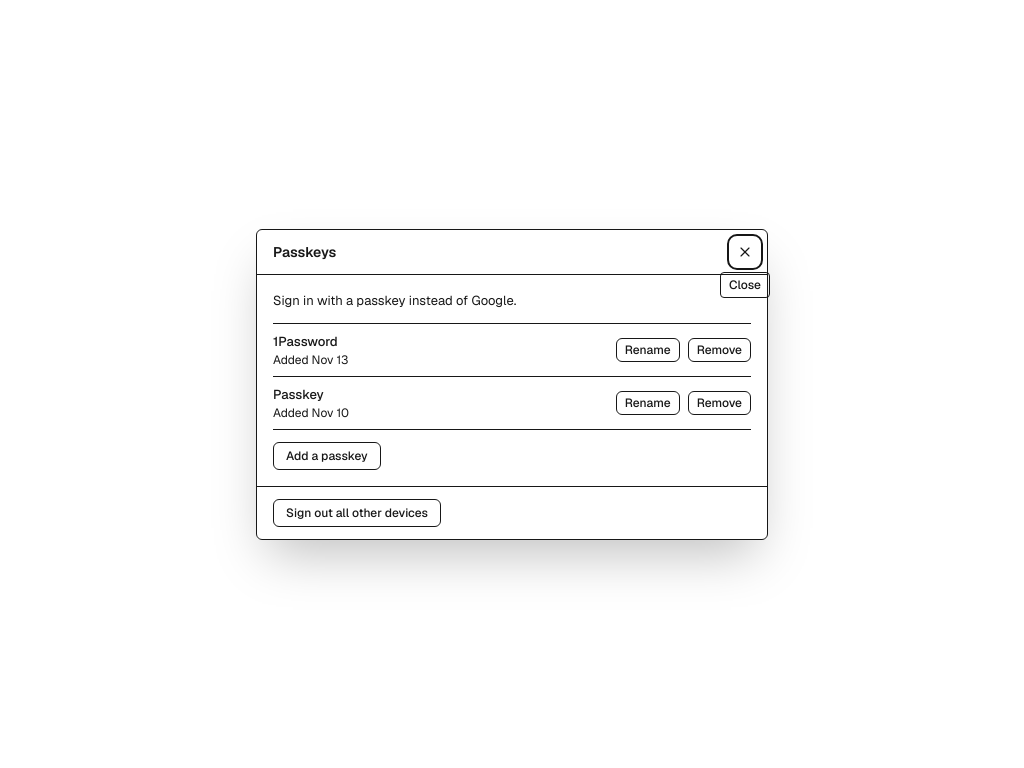
Test: adding a passkey › pressing Add twice sends once, and the other buttons wait while it runs
Later steps or results of the test are not shown.
Step 1. Click the button "Add a passkey" → [327, 456], box [273, 442, 381, 470]
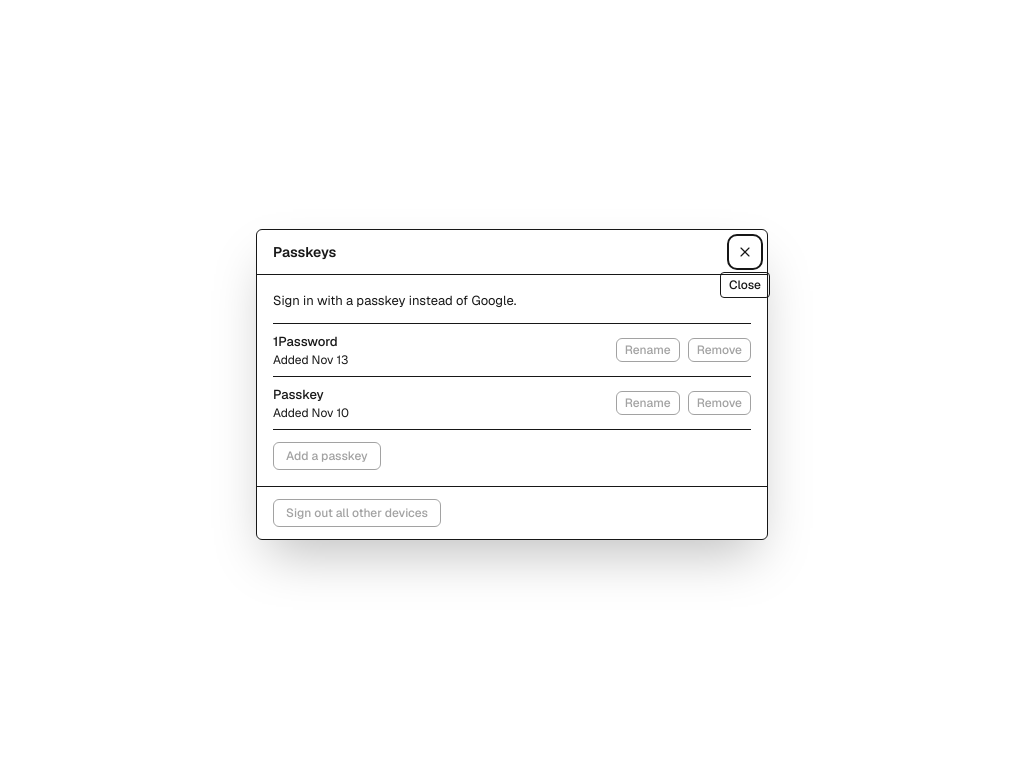
Step 2. Click the button "Add a passkey" → [327, 456], box [273, 442, 381, 470]
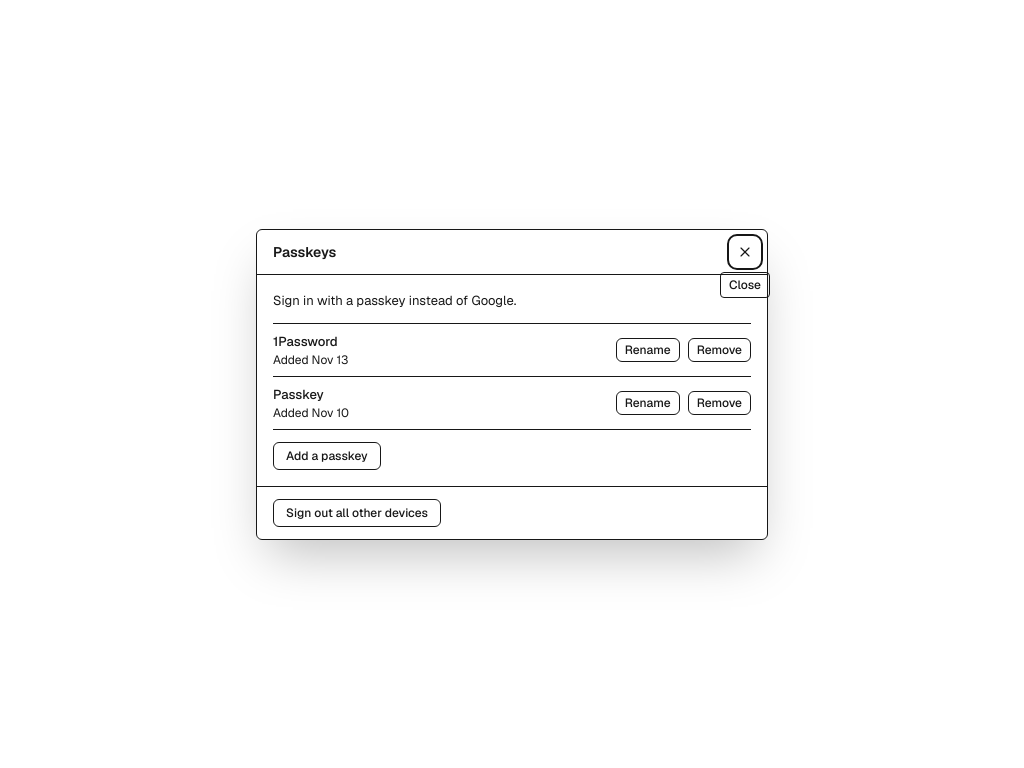
Result: the button "Add a passkey" is enabled at [273, 442, 381, 470]
Result: the button with aria-label "Remove 1Password" is enabled at [688, 338, 751, 362]
